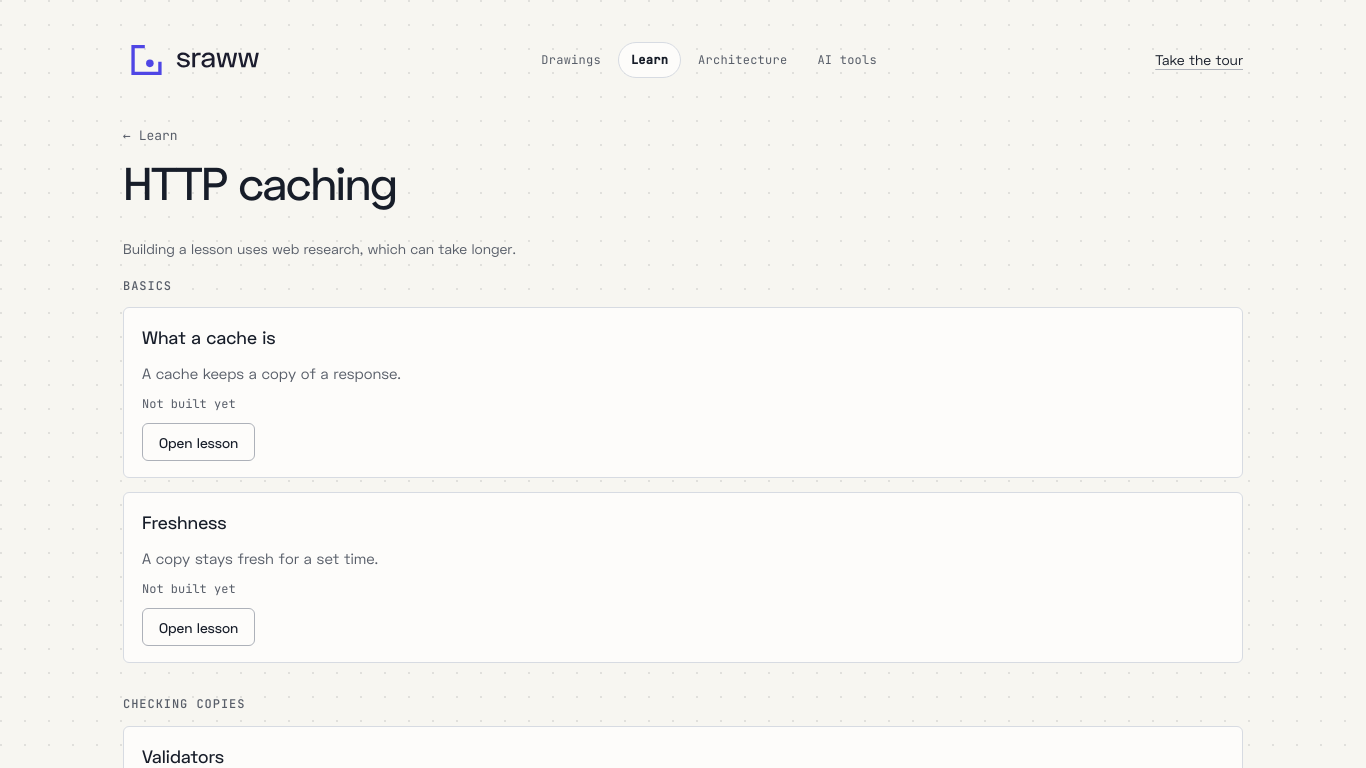
Test case: CoursePage › while one topic builds, its button says so and every other open button waits
Click the button "Open lesson" below "Freshness" at (199, 627), box left=142, top=608, right=255, bottom=646
(page scrolled)
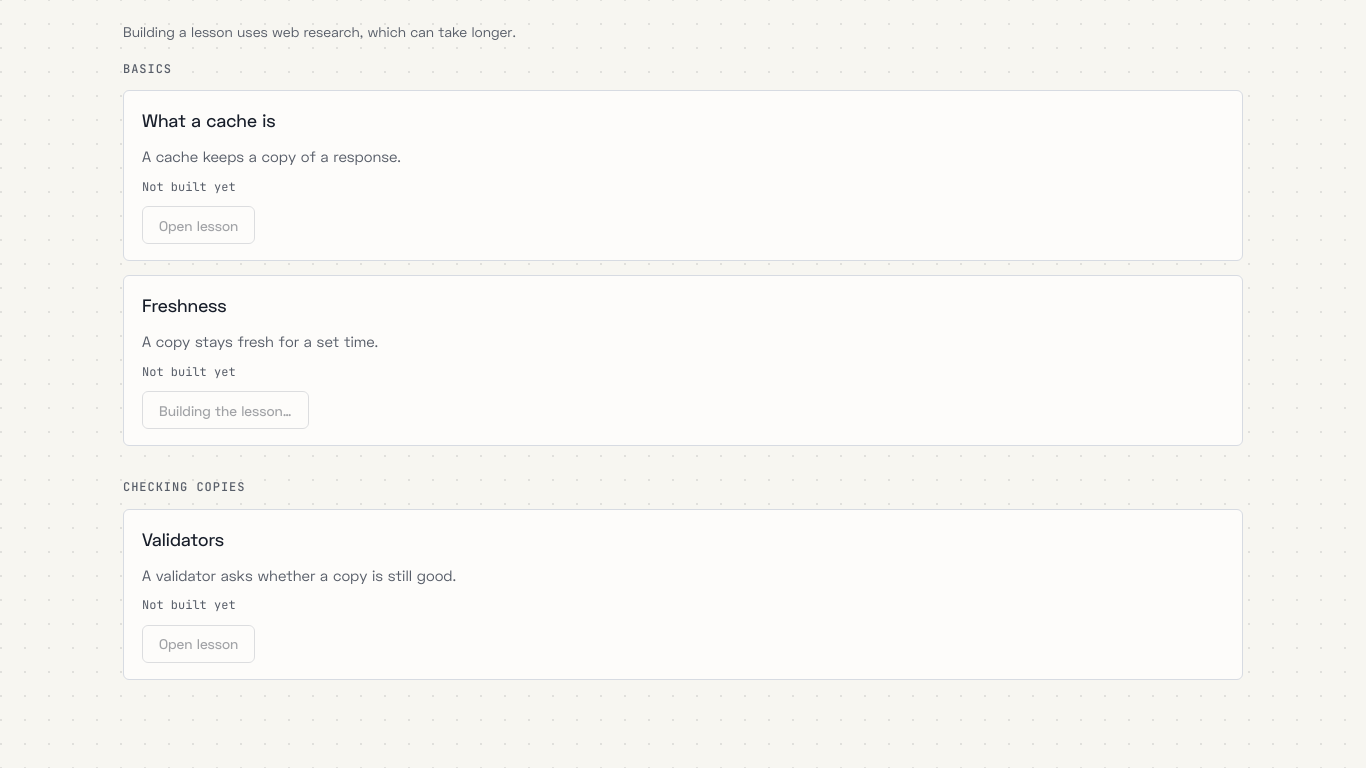
Check: the button "Building the lesson…" is disabled, box left=142, top=391, right=308, bottom=429
Check: the button "Open lesson" below "What a cache is" is disabled, box left=142, top=206, right=255, bottom=244
Check: the button "Open lesson" below "Validators" is disabled, box left=142, top=625, right=255, bottom=663
